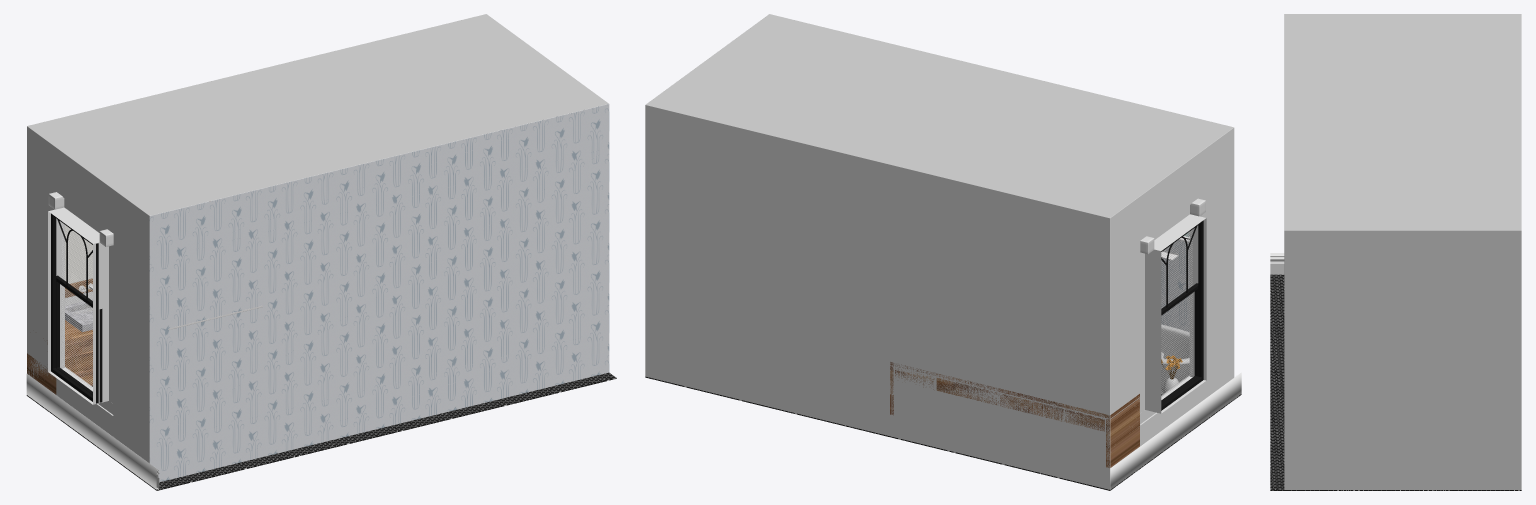
File: bagno.glb
3 views of the same model, side by side, from view 1: azimuth 30°, elevation 25°; view 2: azimuth 150°, elevation 25°; view 3: azimuth 270°, elevation 25° (orthographic). The views are drawn at different scales.
Visible parts, largest first — view 1: 848_Wallpaper, 849_Ceiling, 847_GreyWall, 842_WhiteWood, 845_Floor, 850_WhiteWood, 56_Blinds, 61_WindowFrame, 44_Mirror, 60_WindowFrame, 43_Marble; view 2: 847_GreyWall, 849_Ceiling, 842_WhiteWood, 850_WhiteWood, 56_Blinds, 848_Wallpaper, 32_Wood, 61_WindowFrame, 845_Floor, 843_Bathtube, 846_Wood, 60_WindowFrame (+2 smaller); view 3: 849_Ceiling, 845_Floor, 850_WhiteWood.
Boxes of the visible parts, <box> form: 848_Wallpaper: <box>149,104,609,482</box>; 849_Ceiling: <box>27,14,608,215</box>; 847_GreyWall: <box>27,126,149,463</box>; 842_WhiteWood: <box>48,198,113,415</box>; 845_Floor: <box>26,372,616,490</box>; 850_WhiteWood: <box>26,374,159,489</box>; 56_Blinds: <box>62,223,92,388</box>; 61_WindowFrame: <box>51,213,98,403</box>; 44_Mirror: <box>65,225,92,283</box>; 60_WindowFrame: <box>56,275,102,402</box>; 43_Marble: <box>65,299,92,332</box>; 847_GreyWall: <box>645,105,1234,489</box>; 849_Ceiling: <box>645,14,1233,217</box>; 842_WhiteWood: <box>1140,205,1206,425</box>; 850_WhiteWood: <box>1110,372,1241,489</box>; 56_Blinds: <box>1161,230,1192,396</box>; 848_Wallpaper: <box>1161,233,1189,331</box>; 32_Wood: <box>890,366,1139,467</box>; 61_WindowFrame: <box>1161,220,1203,410</box>; 845_Floor: <box>645,376,1241,490</box>; 843_Bathtube: <box>1161,324,1189,364</box>; 846_Wood: <box>890,362,1139,418</box>; 60_WindowFrame: <box>1161,283,1198,403</box>; 849_Ceiling: <box>1284,14,1521,489</box>; 845_Floor: <box>1270,274,1521,490</box>; 850_WhiteWood: <box>1270,253,1284,274</box>.
Size of the model in its own units: 5.4 by 2.8 by 2.45.
Materials: 33 (9 with a texture image).
